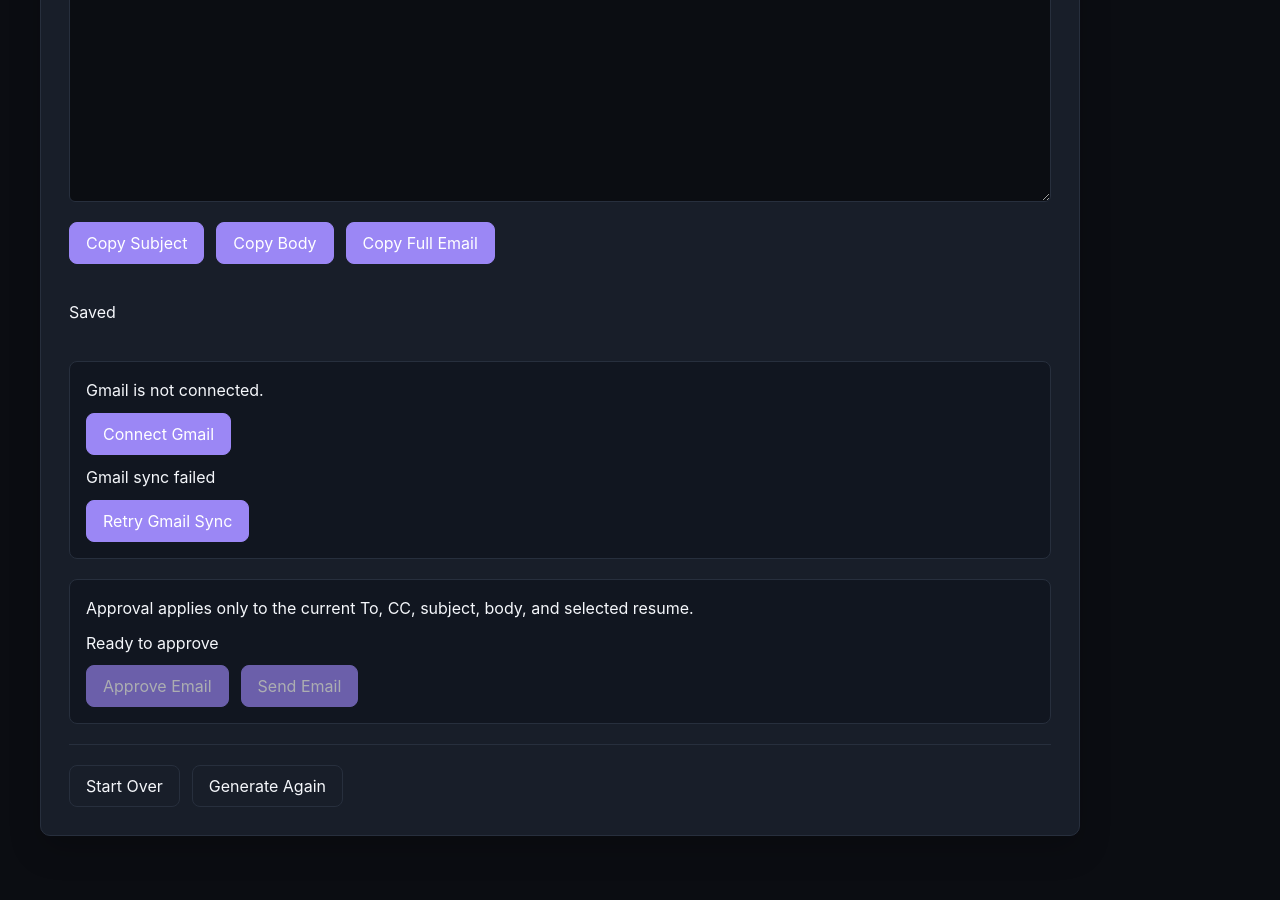
Scenario: OutreachPage › retries a failed Gmail sync without creating a new draft
(page scrolled)
Click the button "Retry Gmail Sync". click: (168, 521)
box: x1=86 y1=500 x2=249 y2=542
(page scrolled)
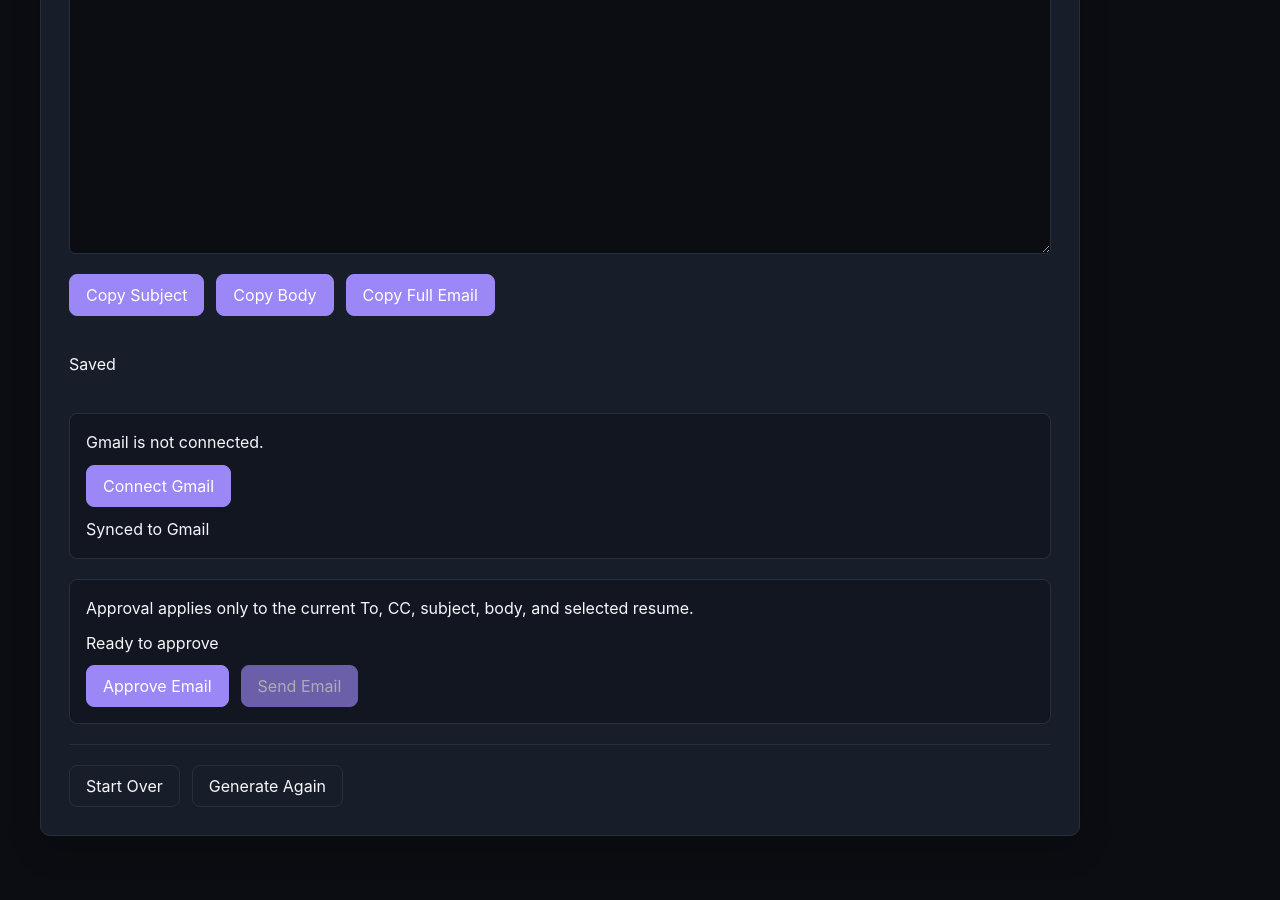
Expected: the text "Synced to Gmail" is shown, x1=86 y1=519 x2=209 y2=539
